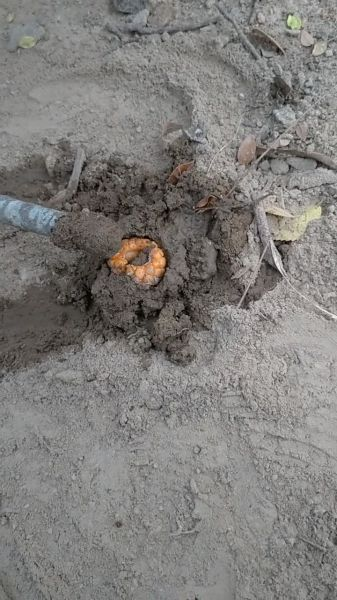eggs: (94, 226, 175, 297)
